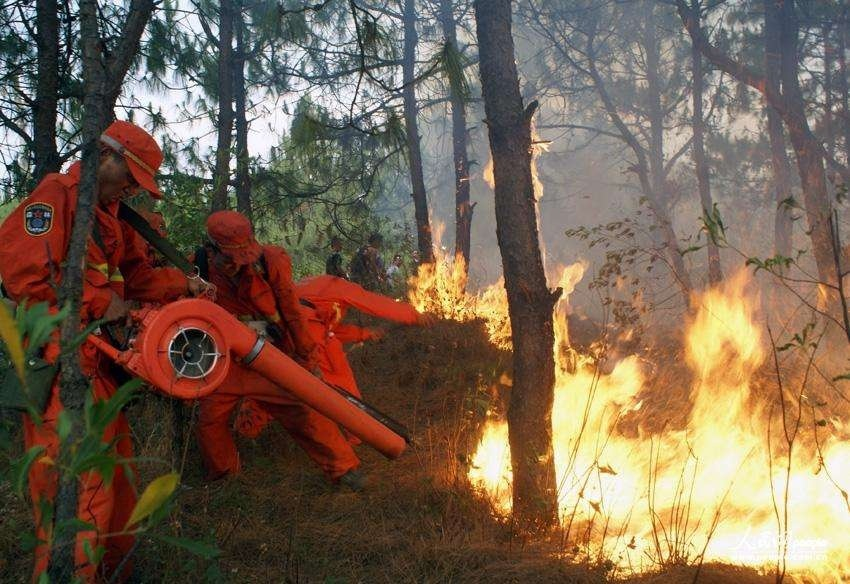fire: (547, 260, 850, 577), (406, 235, 511, 348), (467, 411, 514, 520)
